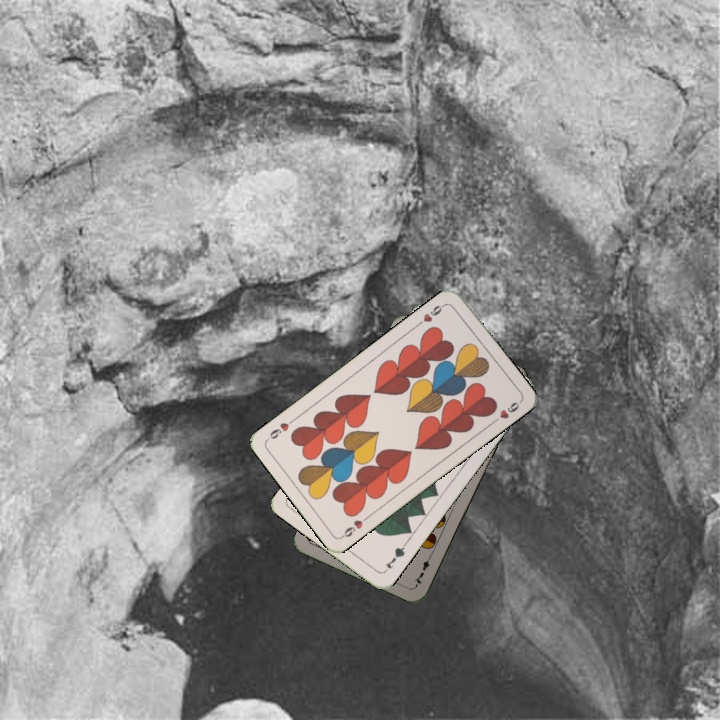E7: (410, 550, 435, 588)
G7: (380, 539, 409, 575)
H9: (337, 511, 372, 541), (413, 300, 448, 328)
